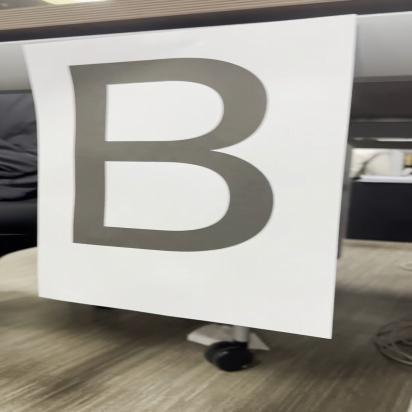seat: (43, 56, 310, 270)
